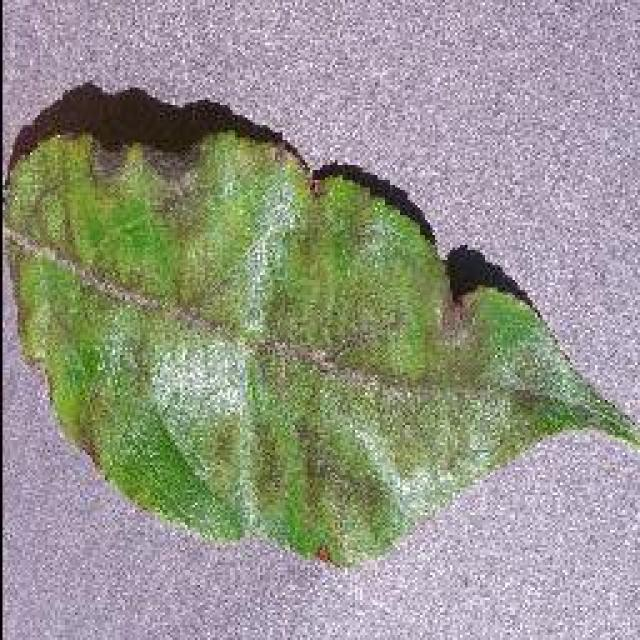apple scab disease: (0, 78, 638, 570)
